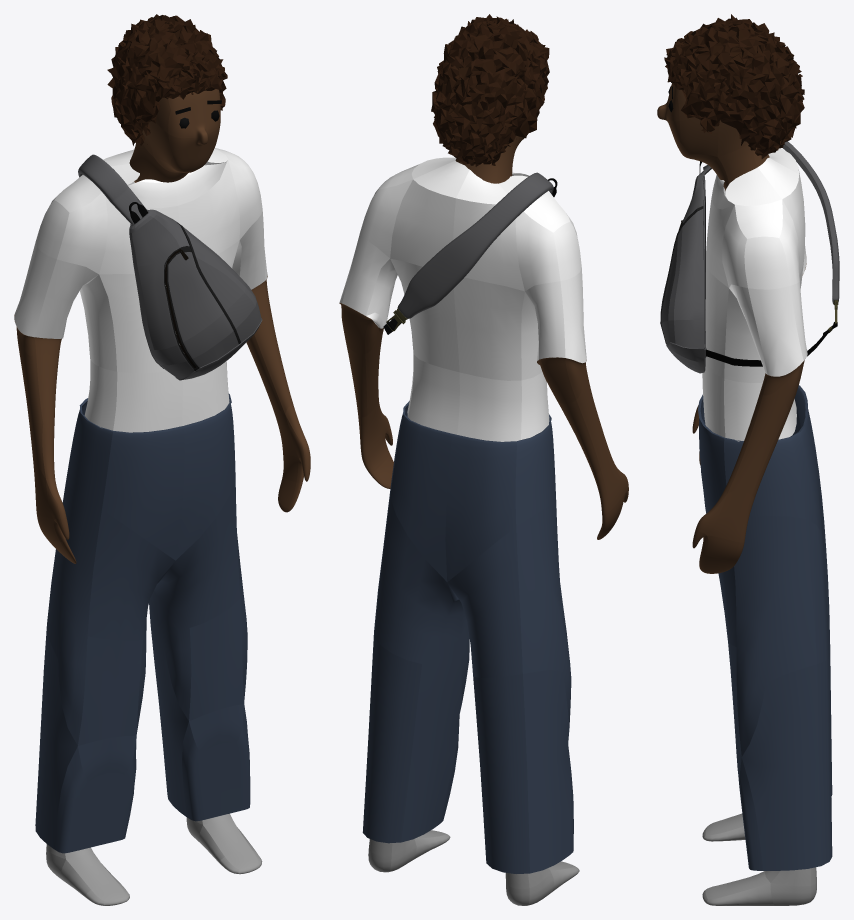
The model's file is Personaje3.fbx.
3 views of the same model, side by side, from view 1: azimuth 30°, elevation 25°; view 2: azimuth 150°, elevation 25°; view 3: azimuth 270°, elevation 25° (orthographic). The views are drawn at different scales.
Visible parts, largest first — view 1: Pantalon.002, Camisa.002, Piel.002, backpack, Hair.001, Zapatos.002; view 2: Pantalon.002, Camisa.002, Hair.001, Piel.002, backpack, Zapatos.002; view 3: Pantalon.002, Camisa.002, Hair.001, Piel.002, backpack, Zapatos.002.
Boxes of the visible parts, x1,y1,x2,y2 form: Pantalon.002: (35, 393, 250, 853); Camisa.002: (14, 148, 267, 432); Piel.002: (14, 89, 310, 563); backpack: (78, 154, 262, 380); Hair.001: (107, 14, 227, 145); Zapatos.002: (46, 813, 262, 905); Pantalon.002: (362, 401, 573, 873); Camisa.002: (339, 157, 586, 441); Hair.001: (431, 14, 549, 166); Piel.002: (339, 133, 628, 539); backpack: (383, 172, 557, 334); Zapatos.002: (368, 830, 579, 905); Pantalon.002: (698, 385, 832, 870); Camisa.002: (702, 148, 807, 441); Hair.001: (664, 14, 804, 158); Piel.002: (657, 82, 806, 573); backpack: (660, 141, 839, 373); Zapatos.002: (702, 813, 816, 905).
Size of the model in its own units: 99.63 by 320 by 62.42.
